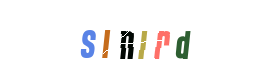D: (136, 0, 216, 80)
L: (87, 0, 167, 80), (100, 0, 180, 80)
N: (94, 0, 174, 80)
R: (103, 0, 183, 80)
S: (48, 0, 128, 80)
